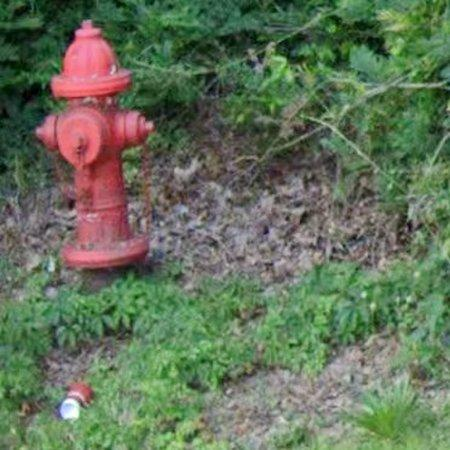a fire hydrant: (35, 20, 154, 269)
